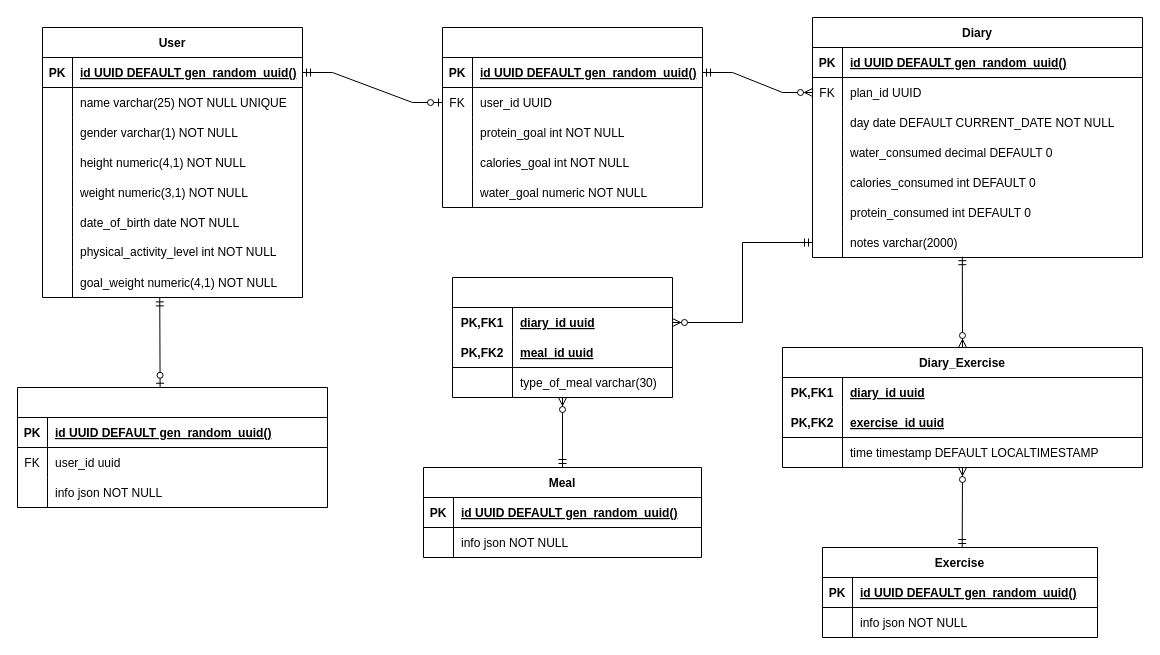
Some shapes in this 1160 by 655 pixel diagram are drawn without their labels. Each missing label, with the box of its shape:
Diary_Meal: (452, 276, 672, 398)
Plan: (442, 26, 702, 208)
Weight indicators: (16, 386, 328, 508)
